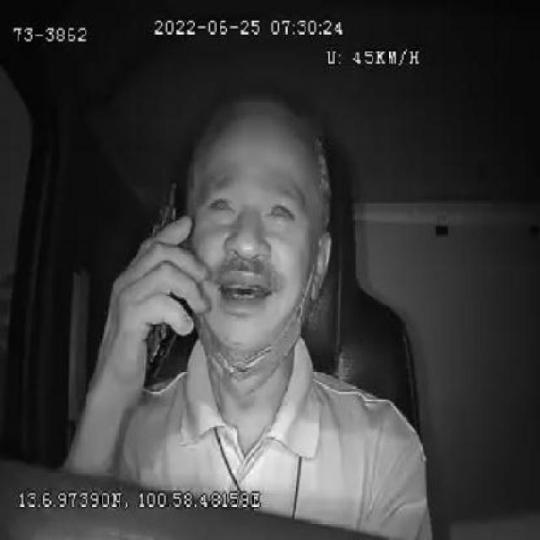phone: (139, 178, 187, 397)
